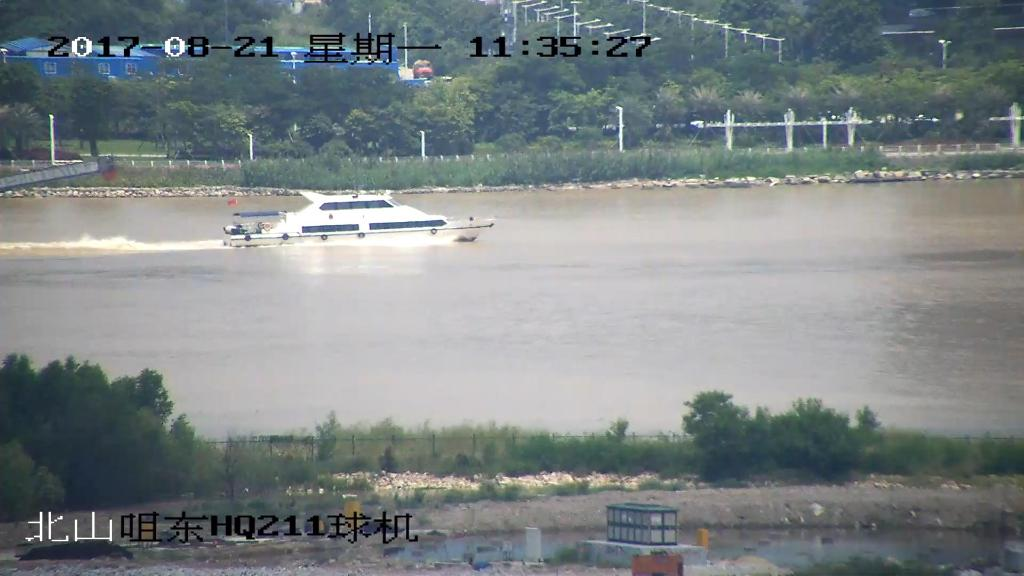PassengerShip: (214, 181, 502, 261)
